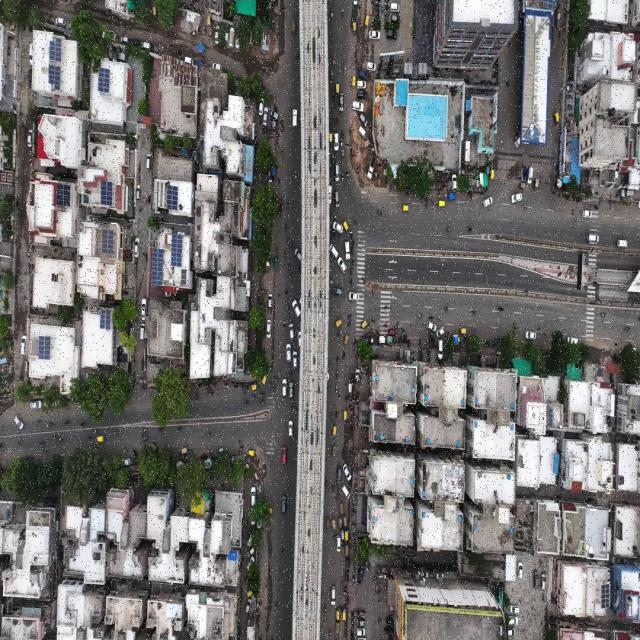3W: (399, 201, 412, 217), (341, 218, 351, 236), (437, 194, 448, 209), (552, 110, 561, 128), (458, 323, 468, 338), (179, 444, 190, 457), (329, 444, 336, 464), (330, 424, 338, 441), (350, 19, 357, 37), (533, 178, 540, 195), (325, 516, 331, 535), (327, 130, 334, 146), (330, 516, 338, 530), (350, 72, 356, 90), (343, 572, 349, 590), (261, 370, 267, 388), (247, 444, 256, 456), (97, 436, 106, 448), (363, 13, 370, 28), (344, 557, 351, 572), (360, 318, 368, 331), (335, 621, 341, 638), (138, 433, 148, 443), (149, 441, 159, 451), (336, 516, 343, 530), (334, 81, 340, 97), (490, 164, 495, 182), (343, 331, 348, 349), (342, 606, 347, 624), (335, 607, 341, 622), (343, 514, 349, 528), (334, 318, 343, 327), (344, 542, 349, 558), (338, 499, 343, 514), (341, 410, 347, 422), (344, 530, 349, 542), (250, 384, 258, 390)
Cars: (585, 230, 603, 247), (25, 39, 35, 68), (14, 410, 26, 434), (290, 104, 298, 140), (565, 330, 582, 346), (289, 299, 301, 321), (280, 439, 288, 472), (342, 239, 352, 265), (211, 20, 221, 46), (508, 598, 522, 616), (264, 289, 274, 314), (138, 40, 155, 54), (54, 11, 67, 29), (509, 189, 524, 204), (133, 236, 141, 264), (524, 327, 538, 343), (145, 145, 152, 177), (20, 337, 29, 361), (539, 566, 547, 593), (210, 56, 222, 74), (333, 126, 340, 156), (426, 318, 437, 337), (358, 66, 371, 82), (287, 378, 296, 401), (264, 320, 274, 340), (331, 286, 345, 300), (533, 566, 540, 594), (437, 335, 444, 363), (615, 236, 629, 250), (125, 33, 140, 46), (292, 245, 304, 261), (358, 112, 370, 128), (336, 256, 346, 275), (287, 417, 295, 440), (338, 91, 346, 114), (25, 68, 33, 91), (329, 582, 336, 608), (336, 533, 343, 559), (389, 10, 402, 24), (386, 28, 399, 42), (279, 494, 288, 514), (250, 484, 258, 506), (244, 556, 255, 572), (582, 206, 593, 222), (483, 194, 494, 210), (366, 55, 376, 72), (351, 99, 364, 112), (332, 222, 344, 236), (273, 249, 280, 273), (270, 110, 282, 124), (27, 400, 42, 411), (140, 294, 146, 321), (329, 244, 338, 262), (368, 28, 381, 40), (356, 125, 368, 138), (258, 95, 264, 121), (183, 53, 195, 66), (281, 377, 288, 399), (348, 289, 359, 303), (244, 533, 253, 550), (343, 464, 352, 481), (287, 321, 294, 342), (518, 558, 524, 582), (452, 170, 458, 194), (356, 89, 368, 101), (228, 24, 234, 48), (528, 164, 535, 184), (357, 76, 367, 90), (334, 159, 340, 182), (513, 133, 520, 152), (508, 615, 520, 626), (387, 326, 398, 338), (118, 34, 128, 47), (292, 350, 298, 371), (286, 342, 292, 363), (436, 324, 445, 338), (263, 105, 269, 126), (192, 58, 203, 69), (121, 456, 131, 468), (246, 548, 256, 560), (337, 466, 343, 486), (356, 616, 366, 628), (506, 626, 516, 638), (390, 1, 400, 13), (136, 182, 142, 202), (26, 128, 32, 148), (139, 321, 145, 340), (244, 598, 251, 613), (343, 486, 349, 502), (354, 628, 366, 636), (334, 187, 339, 206), (297, 329, 300, 352)
LCV: (364, 153, 376, 181), (278, 198, 284, 216)
M2W: (372, 205, 384, 223), (338, 2, 347, 22), (34, 410, 44, 426), (278, 541, 286, 561), (271, 595, 278, 616), (286, 365, 295, 381), (349, 272, 357, 290), (329, 5, 336, 25), (442, 301, 450, 318), (113, 429, 123, 442), (465, 222, 474, 236), (273, 372, 281, 387), (336, 328, 344, 343), (346, 310, 356, 322), (326, 628, 336, 640), (293, 404, 300, 421), (346, 322, 356, 333), (444, 224, 454, 235), (321, 477, 330, 489), (340, 143, 346, 161), (345, 167, 350, 188), (206, 428, 214, 441), (471, 306, 479, 319), (331, 51, 337, 68), (243, 400, 252, 411), (46, 419, 54, 431), (62, 415, 70, 427), (329, 410, 335, 426), (323, 601, 329, 617), (287, 270, 294, 283), (282, 287, 288, 302), (282, 250, 288, 265), (349, 336, 357, 347), (286, 259, 292, 273), (327, 358, 333, 372), (237, 442, 244, 454), (600, 310, 606, 324), (348, 265, 354, 279), (382, 302, 389, 314), (334, 112, 341, 124), (338, 128, 345, 140), (497, 304, 506, 313), (286, 236, 291, 252), (92, 423, 99, 434), (290, 399, 297, 410), (572, 213, 579, 224), (625, 321, 630, 336), (337, 131, 342, 146), (337, 390, 343, 402), (329, 484, 335, 496), (350, 255, 356, 267), (436, 313, 442, 325), (343, 64, 349, 76), (285, 301, 290, 315), (350, 234, 355, 248), (284, 220, 288, 237), (334, 405, 338, 422), (280, 318, 286, 329), (320, 594, 326, 605), (339, 171, 345, 182), (294, 168, 298, 184), (43, 444, 50, 453), (158, 426, 167, 433), (40, 438, 46, 448), (250, 392, 256, 402), (259, 398, 265, 408), (334, 381, 339, 393), (330, 66, 334, 81), (285, 201, 290, 213), (277, 173, 282, 185), (337, 484, 341, 498), (279, 143, 283, 157), (350, 246, 355, 257), (331, 92, 335, 105), (336, 351, 341, 361), (79, 420, 86, 427), (16, 438, 24, 444), (88, 433, 94, 441), (335, 368, 339, 380), (342, 352, 346, 364), (417, 311, 422, 320), (544, 329, 548, 340), (258, 392, 264, 399), (268, 380, 272, 390), (59, 436, 65, 442), (52, 433, 58, 438), (143, 428, 149, 433), (176, 427, 182, 432), (352, 348, 357, 353)
